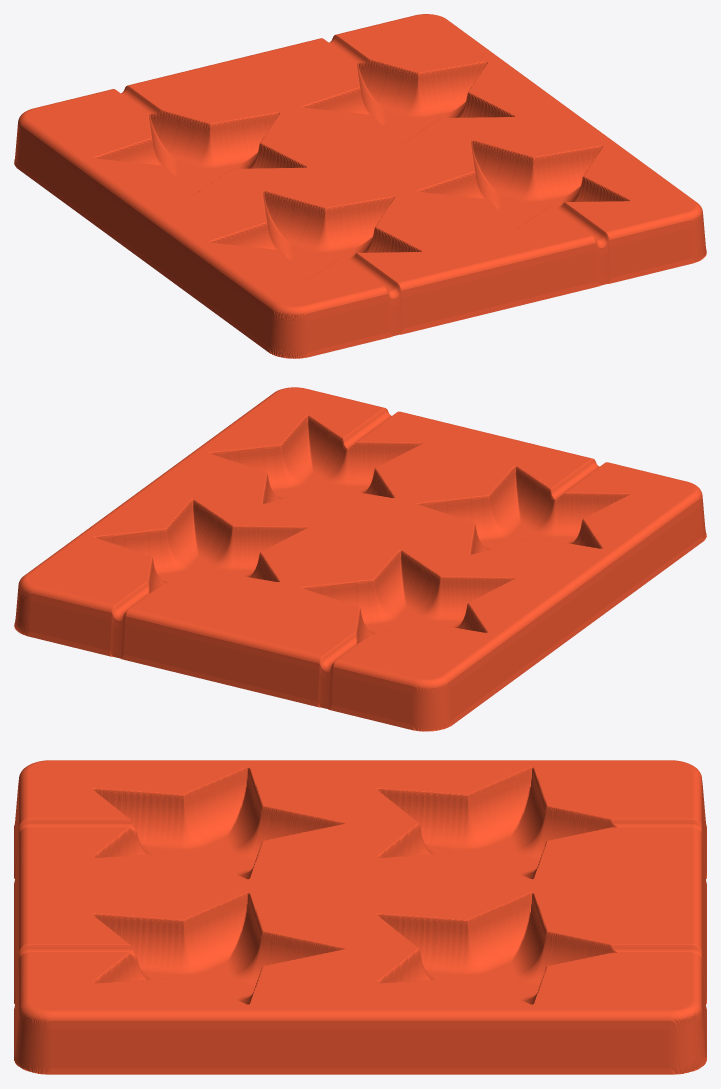
The model's file is mold.glb.
The picture shows the model from 3 angles, top to bottom: view 1: azimuth 30°, elevation 25°; view 2: azimuth 150°, elevation 25°; view 3: azimuth 270°, elevation 25°; orthographic projection. The views are drawn at different scales.
Parts seen in each view (by area): view 1: geometry_0; view 2: geometry_0; view 3: geometry_0.
Part boxes in pixels (x1,y1,x2,y2): geometry_0: [14, 14, 706, 358]; geometry_0: [14, 387, 706, 731]; geometry_0: [14, 760, 706, 1074].
Size of the model in its own units: 0.1497 by 0.0155 by 0.1674.
